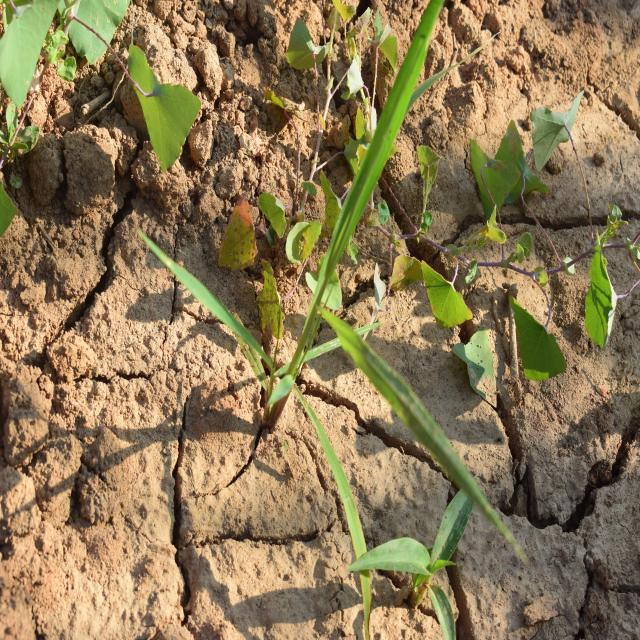green_foxtail: (211, 27, 479, 500)
